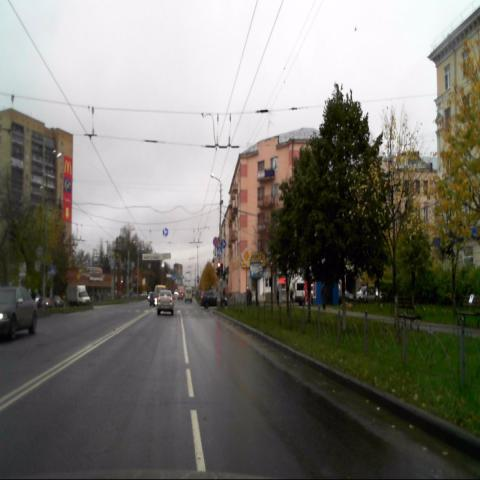2_1: (241, 247, 251, 265)
